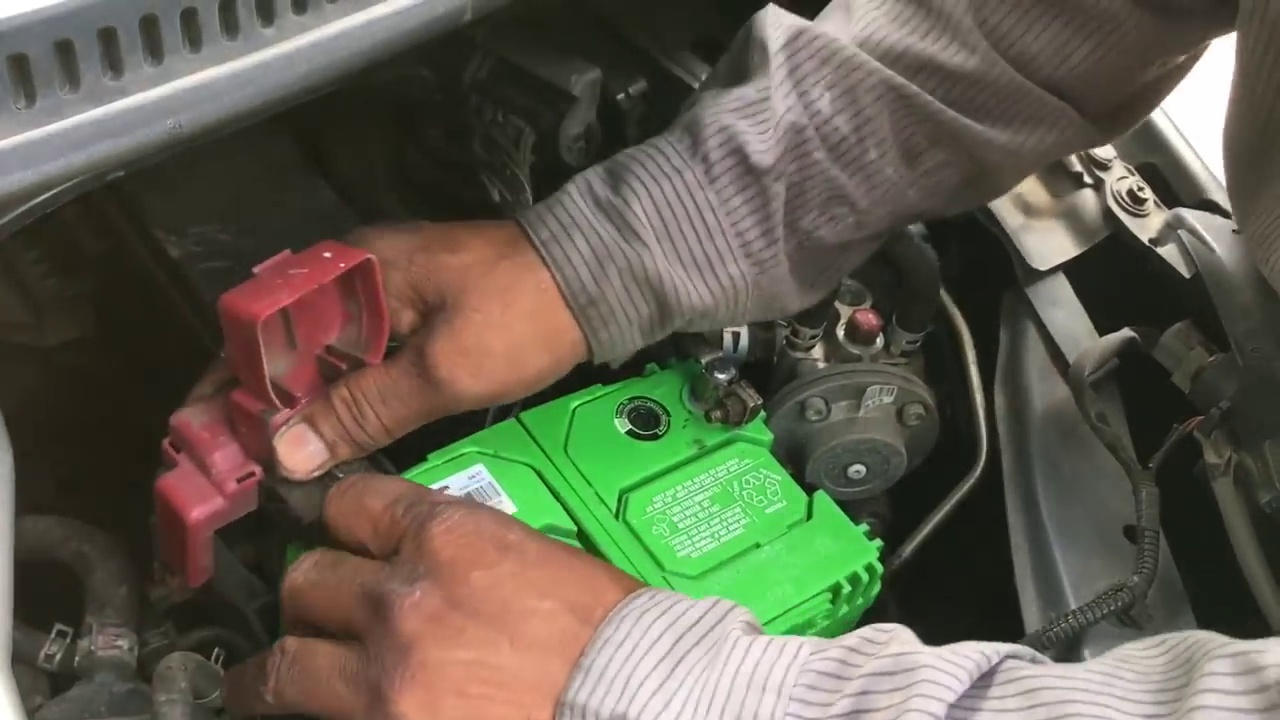battery: (299, 340, 878, 653)
neg_connected: (671, 302, 776, 447)
pos_touched: (214, 264, 448, 587)
